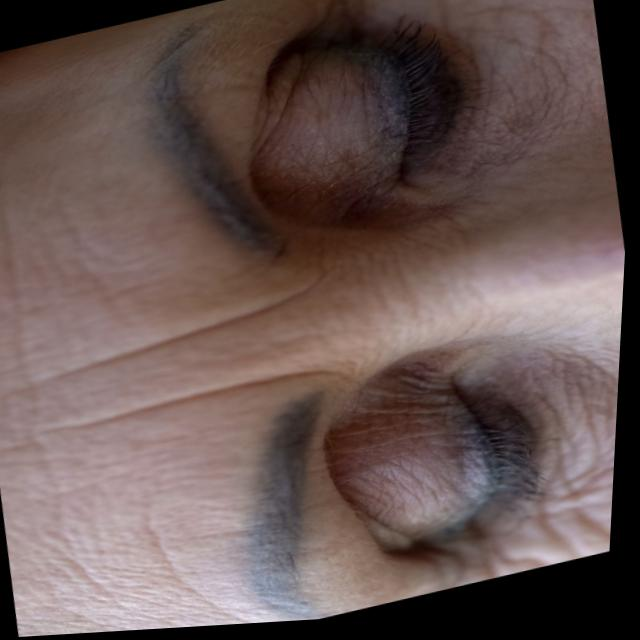Wrinkles: (0, 100, 363, 604), (141, 495, 276, 628), (536, 506, 618, 566), (476, 545, 553, 585), (433, 0, 449, 37), (325, 0, 367, 4)
